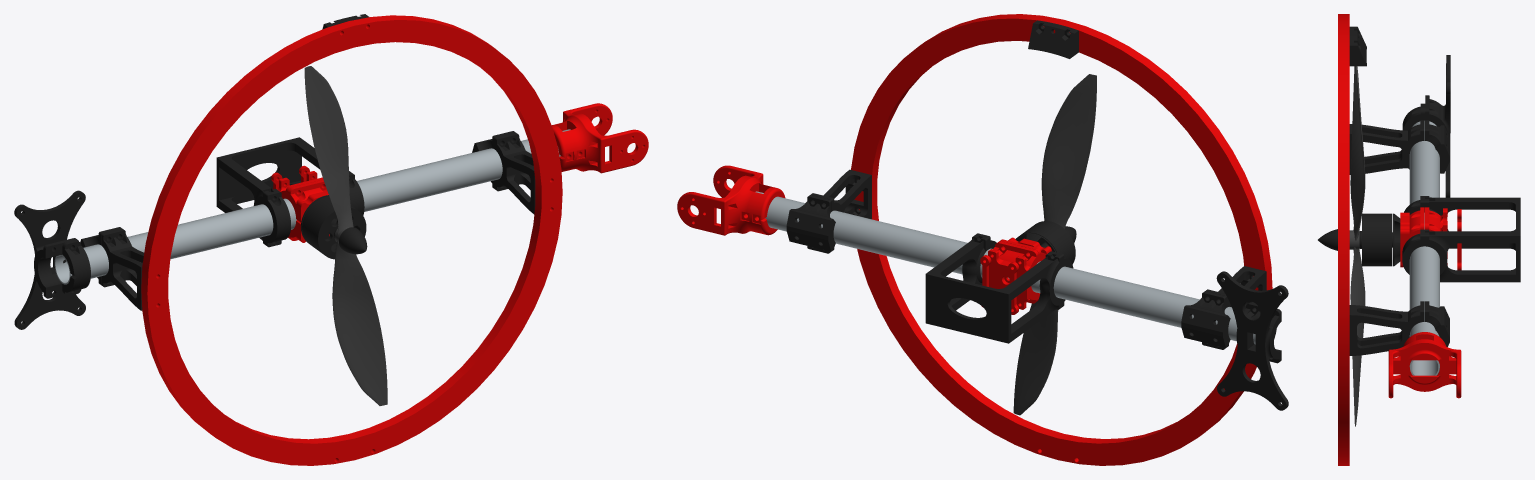
File: hydrus3_link1.dae
The picture shows the model from 3 angles, left to right: view 1: azimuth 30°, elevation 25°; view 2: azimuth 150°, elevation 25°; view 3: azimuth 270°, elevation 25°; orthographic projection. The views are drawn at different scales.
Parts seen in each view (by area): view 1: Body_1 (×13); view 2: Body_1 (×14); view 3: Body_1 (×17).
Part boxes in pixels (x1=…): Body_1 (×13): x1=14, y1=15, x2=648, y2=465; Body_1 (×14): x1=677, y1=14, x2=1288, y2=465; Body_1 (×17): x1=1318, y1=14, x2=1520, y2=465.
Size of the model in its own units: 0.435 by 0.1348 by 0.3.
